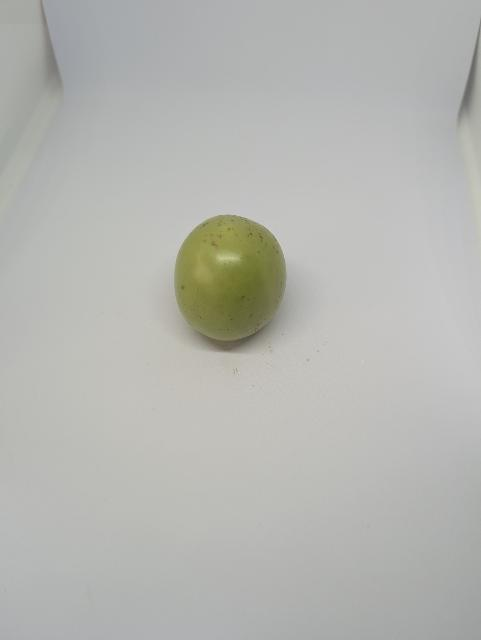green: (172, 212, 289, 343)
